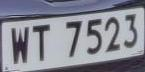2: (103, 14, 123, 57)
3: (122, 10, 141, 54)
5: (83, 15, 106, 59)
7: (61, 17, 86, 63)
T: (30, 21, 56, 67)
W: (8, 22, 32, 69)
